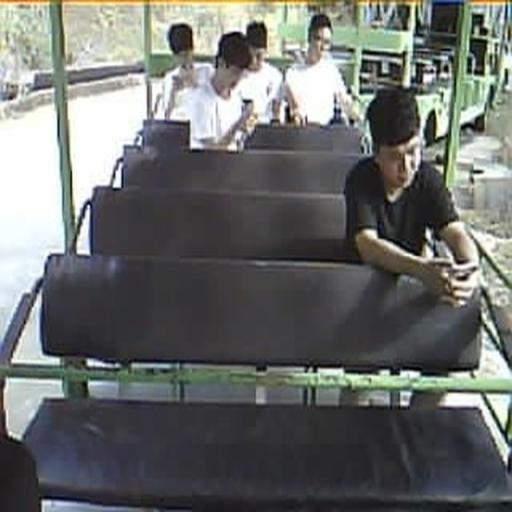persona: (340, 83, 478, 408), (169, 31, 257, 151), (285, 13, 360, 128), (152, 22, 215, 120), (238, 20, 285, 125)
